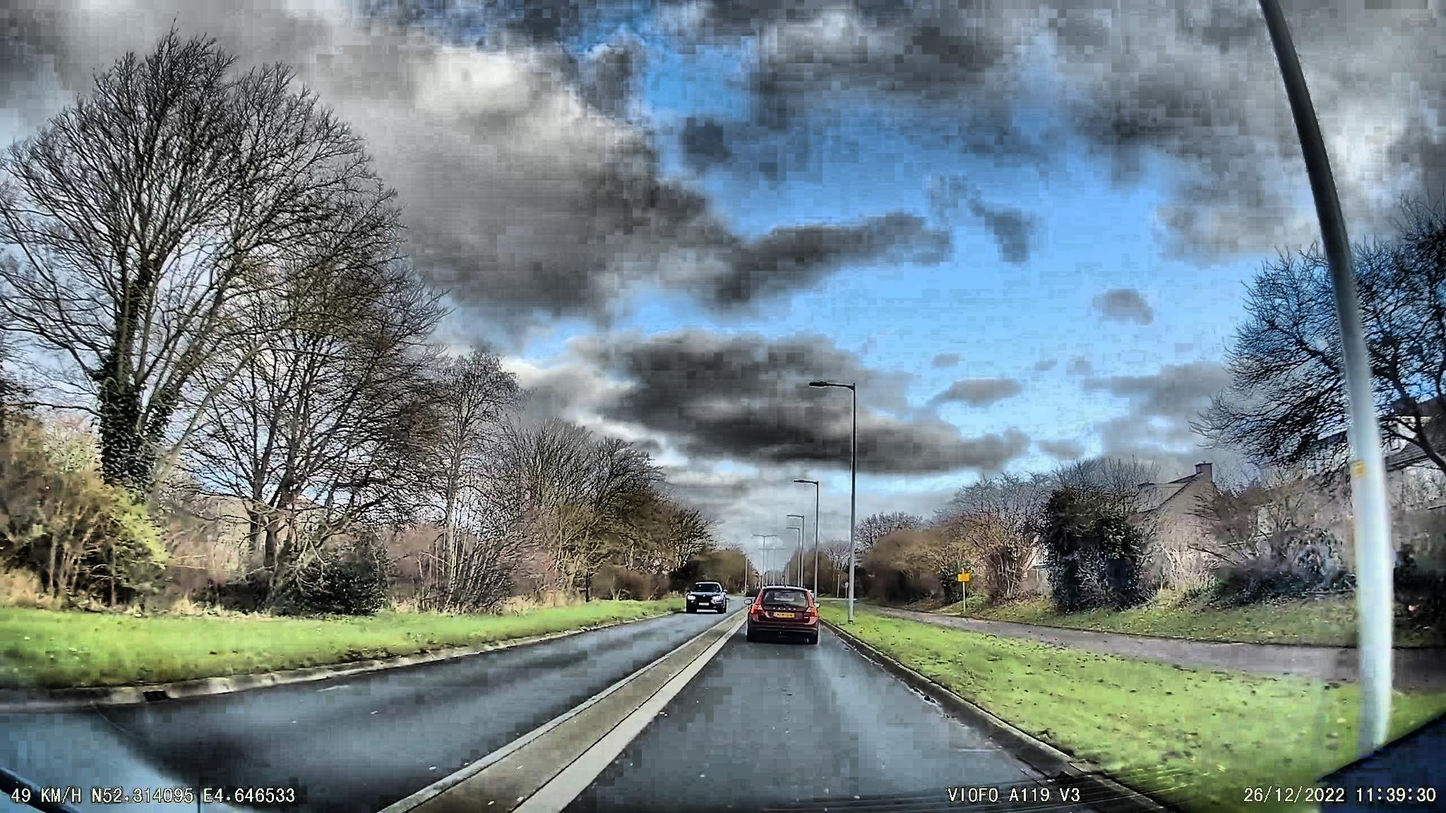Roads: (0, 614, 1177, 813)
